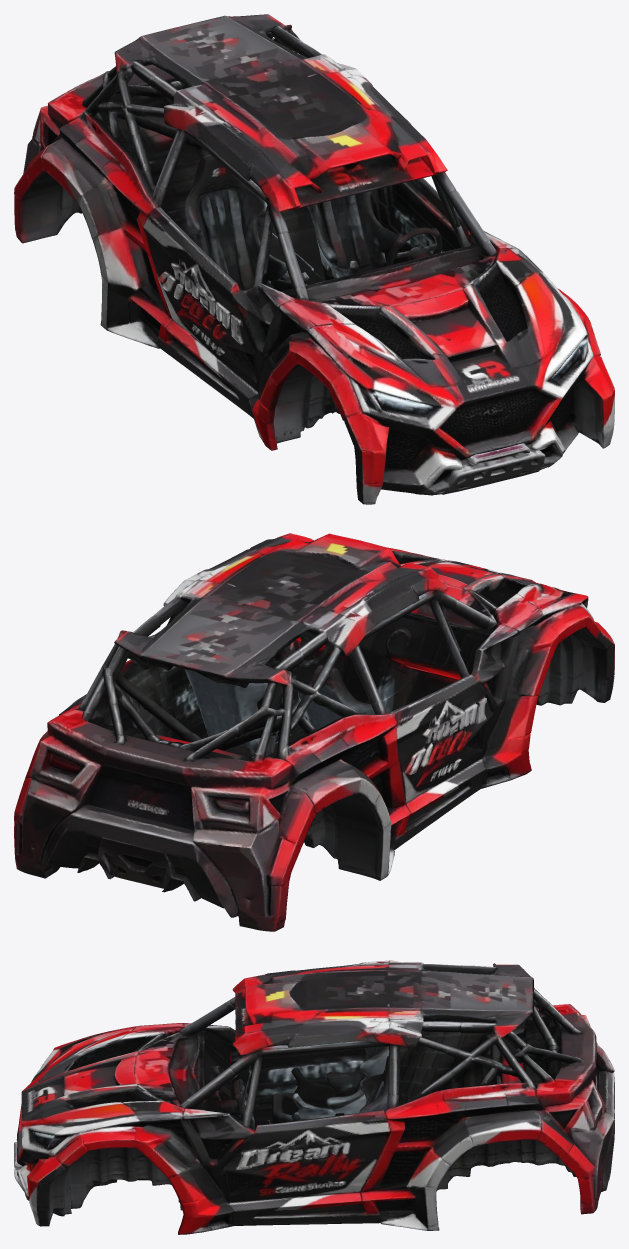
Rendered from buggy.glb.
3 views of the same model, one above another, from view 1: azimuth 30°, elevation 25°; view 2: azimuth 150°, elevation 25°; view 3: azimuth 270°, elevation 25° (orthographic). The views are drawn at different scales.
Parts seen in each view (by area): view 1: geometry_0; view 2: geometry_0; view 3: geometry_0.
Boxes of the visible parts, <box> form: geometry_0: <box>14,14,614,504</box>; geometry_0: <box>14,533,614,931</box>; geometry_0: <box>14,960,614,1234</box>.
Bounding box in the file's own units: 1.89 × 1.53 × 4.29.
Materials: 1 (1 with a texture image).
